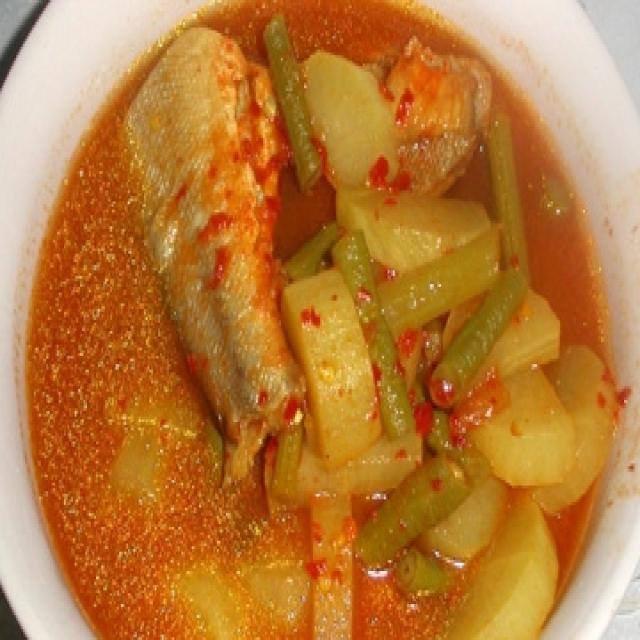汤锅炖物: (18, 8, 617, 634)
